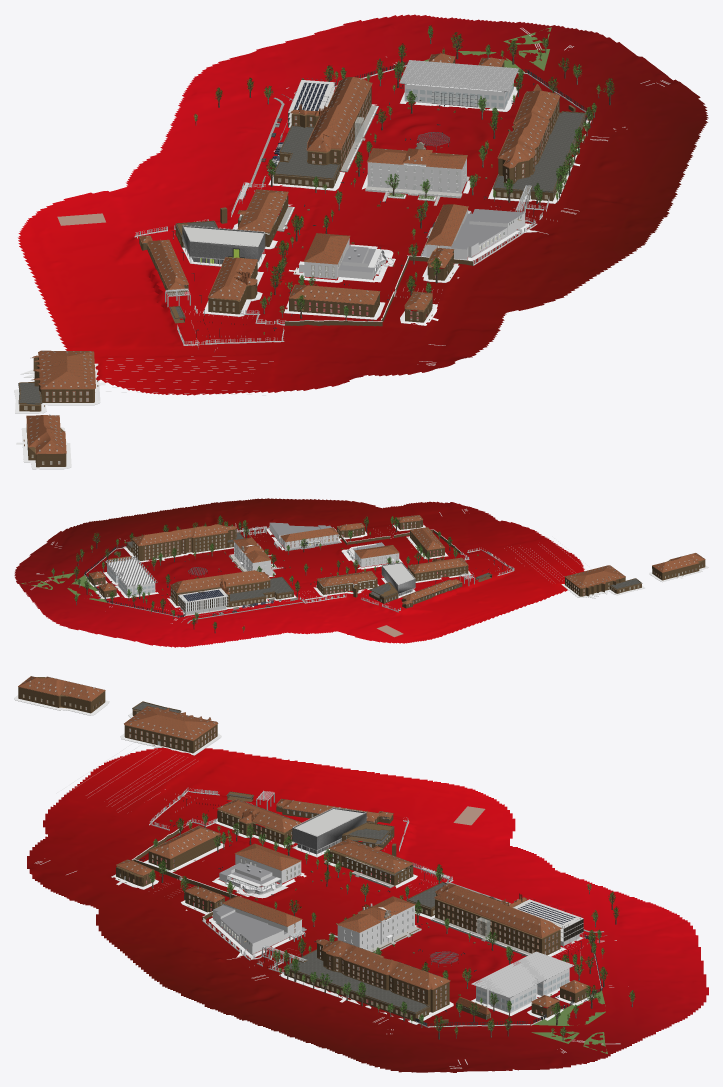
The model's file is campus_champollion.glb.
The picture shows the model from 3 angles, top to bottom: view 1: azimuth 30°, elevation 25°; view 2: azimuth 150°, elevation 25°; view 3: azimuth 270°, elevation 25°; orthographic projection. The views are drawn at different scales.
Visible parts, largest first — view 1: TERRAIN, TERRASSES_PARVIS, BAT_04_ADMINISTRATIF, TOIT_BAT_03_JEAN_JAURES, MM_PERGOLA_LAMES, TOIT_BAT_05_EMILE_BOREL_AILE_BASSE, TOIT_BAT_05_EMILE_BOREL, IFMS_VOLUME_HAUT, BAT_06_BIBLIOTHEQUE_EXTENSION, TOIT_BAT_09_GYMNASE, TOIT_BAT_03_JEAN_JAURES_AILE_BASSE, CLO_MURET (+19 smaller); view 2: TERRAIN, TERRASSES_PARVIS, BAT_05_EMILE_BOREL, TOIT_BAT_03_JEAN_JAURES, TOIT_BAT_05_EMILE_BOREL, BAT_04_ADMINISTRATIF, BAT_02_MULTIMEDIA, TOIT_BAT_09_GYMNASE, BAT_06_BIBLIOTHEQUE, MM_PERGOLA_LAMES, BAT_07_RESTAURANT_UNIVERSITAIRE, CLO_MURET (+23 smaller); view 3: TERRAIN, TERRASSES_PARVIS, BAT_04_ADMINISTRATIF, TOIT_BAT_03_JEAN_JAURES, BAT_03_JEAN_JAURES, MM_PERGOLA_LAMES, BAT_05_EMILE_BOREL, TOIT_BAT_05_EMILE_BOREL, TOIT_BAT_05_EMILE_BOREL_AILE_BASSE, IFMS_VOLUME_HAUT, TOIT_BAT_09_GYMNASE, BAT_06_BIBLIOTHEQUE_EXTENSION (+21 smaller).
Part boxes in pixels (x1,y1,x2,y2): TERRAIN: (18,14,708,395); TERRASSES_PARVIS: (14,86,591,469); BAT_04_ADMINISTRATIF: (367,148,467,193); TOIT_BAT_03_JEAN_JAURES: (290,77,372,152); MM_PERGOLA_LAMES: (399,60,518,91); TOIT_BAT_05_EMILE_BOREL_AILE_BASSE: (492,111,586,192); TOIT_BAT_05_EMILE_BOREL: (497,90,560,168); IFMS_VOLUME_HAUT: (182,225,265,261); BAT_06_BIBLIOTHEQUE_EXTENSION: (450,209,525,259); TOIT_BAT_09_GYMNASE: (32,350,95,389); TOIT_BAT_03_JEAN_JAURES_AILE_BASSE: (273,125,340,179); CLO_MURET: (134,65,590,345); TERRAIN: (14,498,584,647); TERRASSES_PARVIS: (85,524,708,608); BAT_05_EMILE_BOREL: (132,528,236,561); TOIT_BAT_03_JEAN_JAURES: (170,570,270,594); TOIT_BAT_05_EMILE_BOREL: (132,524,236,546); BAT_04_ADMINISTRATIF: (233,537,271,574); BAT_02_MULTIMEDIA: (107,559,155,596); TOIT_BAT_09_GYMNASE: (564,565,625,588); BAT_06_BIBLIOTHEQUE: (280,528,338,549); MM_PERGOLA_LAMES: (105,556,157,586); BAT_07_RESTAURANT_UNIVERSITAIRE: (354,545,399,567); CLO_MURET: (84,527,514,617); TERRAIN: (27,747,708,1072); TERRASSES_PARVIS: (14,695,593,1024); BAT_04_ADMINISTRATIF: (337,896,415,950); TOIT_BAT_03_JEAN_JAURES: (434,883,561,938); BAT_03_JEAN_JAURES: (435,893,560,955); MM_PERGOLA_LAMES: (471,951,574,997); BAT_05_EMILE_BOREL: (317,943,449,1012); TOIT_BAT_05_EMILE_BOREL: (316,939,450,989); TOIT_BAT_05_EMILE_BOREL_AILE_BASSE: (283,949,429,1013); IFMS_VOLUME_HAUT: (292,807,366,849); TOIT_BAT_09_GYMNASE: (124,706,217,740); BAT_06_BIBLIOTHEQUE_EXTENSION: (213,905,287,954).
Size of the model in its own units: 519 by 24.02 by 393.
Materials: 164 (27 with a texture image).
